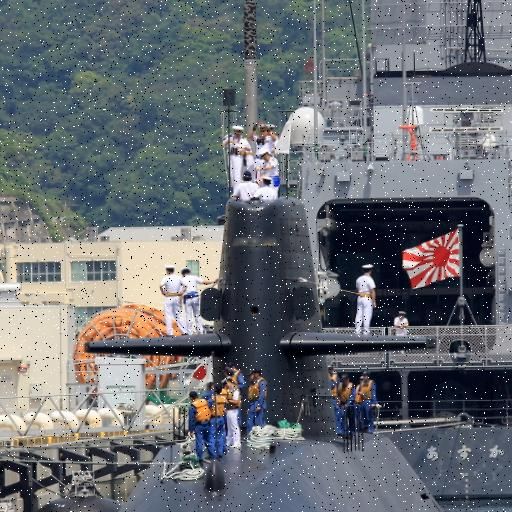submarine: (79, 191, 452, 512)
